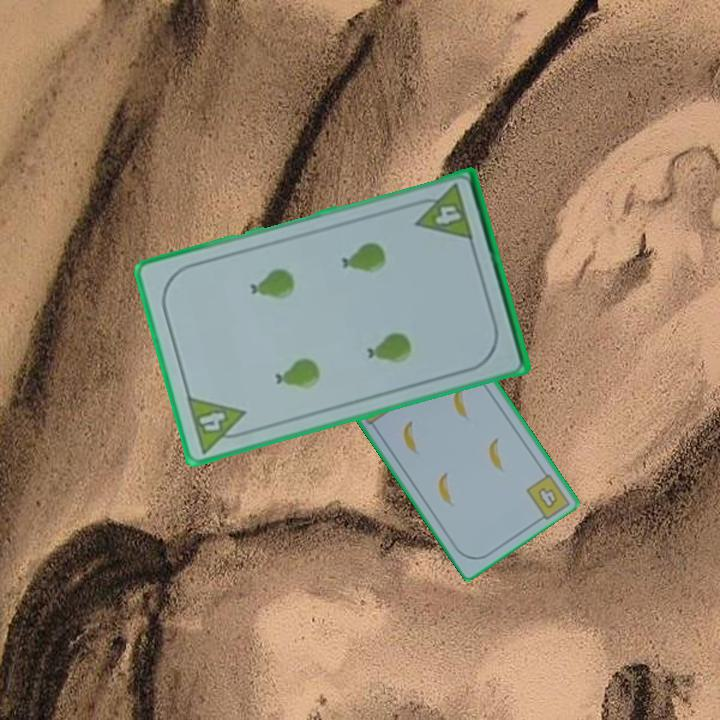4b: (534, 484, 561, 512)
4p: (183, 392, 253, 456), (408, 181, 475, 244)
